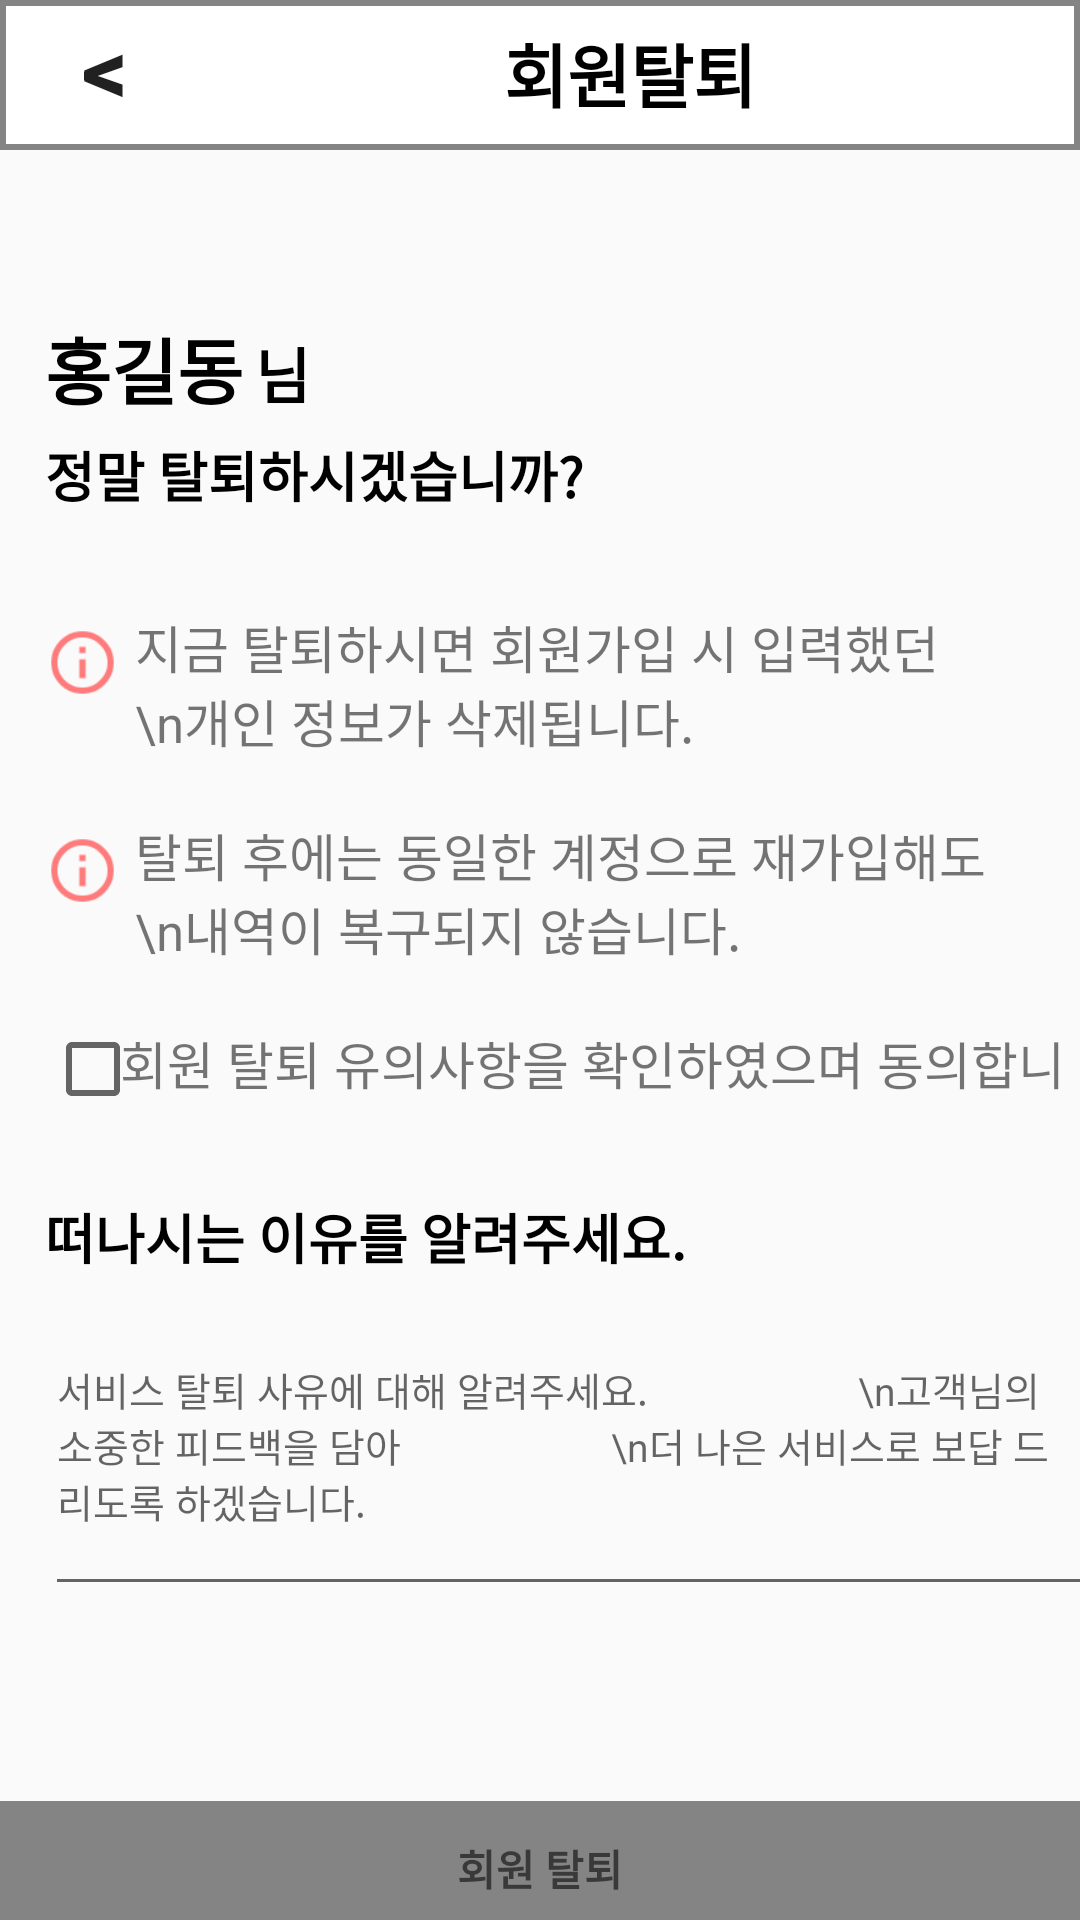

Locate icon controls on the screen. Image size 1080*1920, boxes as BBox(x1, y1, x2, y2).
info: BBox(51, 631, 114, 694), BBox(51, 839, 114, 902)
